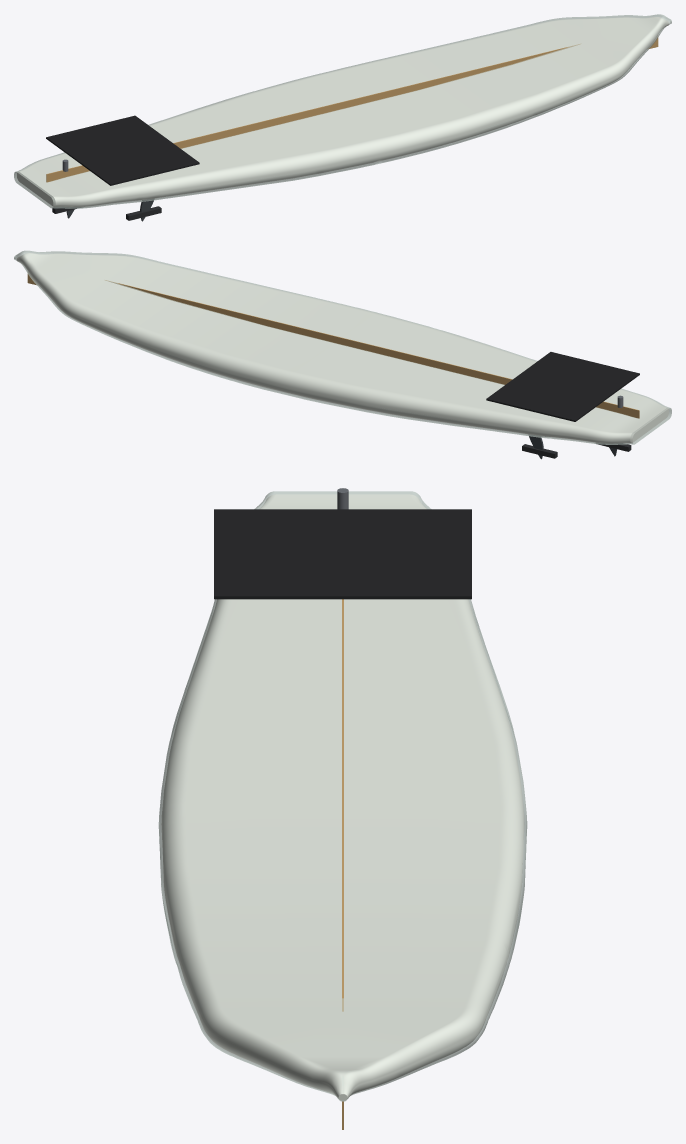
File: anatomy_v2.glb
3 views of the same model, one above another, from view 1: azimuth 30°, elevation 25°; view 2: azimuth 150°, elevation 25°; view 3: azimuth 270°, elevation 25° (orthographic). The views are drawn at different scales.
Visible parts, largest first — view 1: laminate.1 (×2), foam.1, pad.1, wood.1; view 2: laminate.1 (×2), foam.1, pad.1, wood.1; view 3: laminate.1 (×2), foam.1, pad.1.
Boxes of the visible parts, x1,y1,x2,y2 form: laminate.1 (×2): (14, 14, 671, 208); foam.1: (17, 17, 669, 206); pad.1: (46, 115, 199, 185); wood.1: (46, 36, 658, 182); laminate.1 (×2): (14, 250, 671, 444); foam.1: (16, 253, 668, 443); pad.1: (486, 352, 639, 421); wood.1: (27, 272, 639, 418); laminate.1 (×2): (158, 491, 527, 1101); foam.1: (161, 494, 524, 1100); pad.1: (214, 509, 471, 599).
Size of the model in its own units: 2.29 by 0.2035 by 0.5726.
